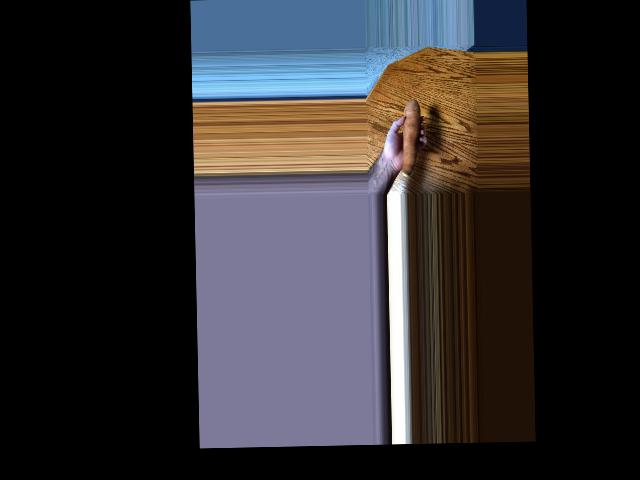sweet_potato: (402, 96, 427, 173)
